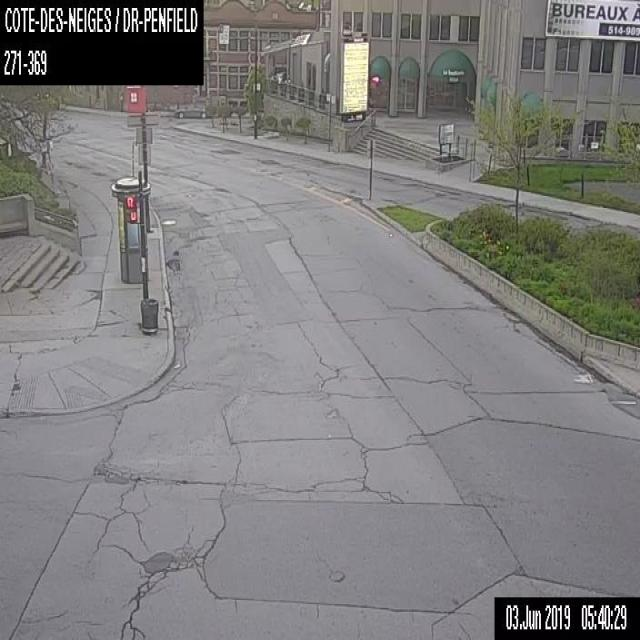vehicle: (173, 100, 206, 118)
